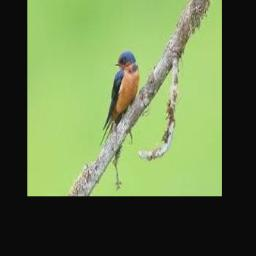Swallow: (100, 51, 140, 148)
